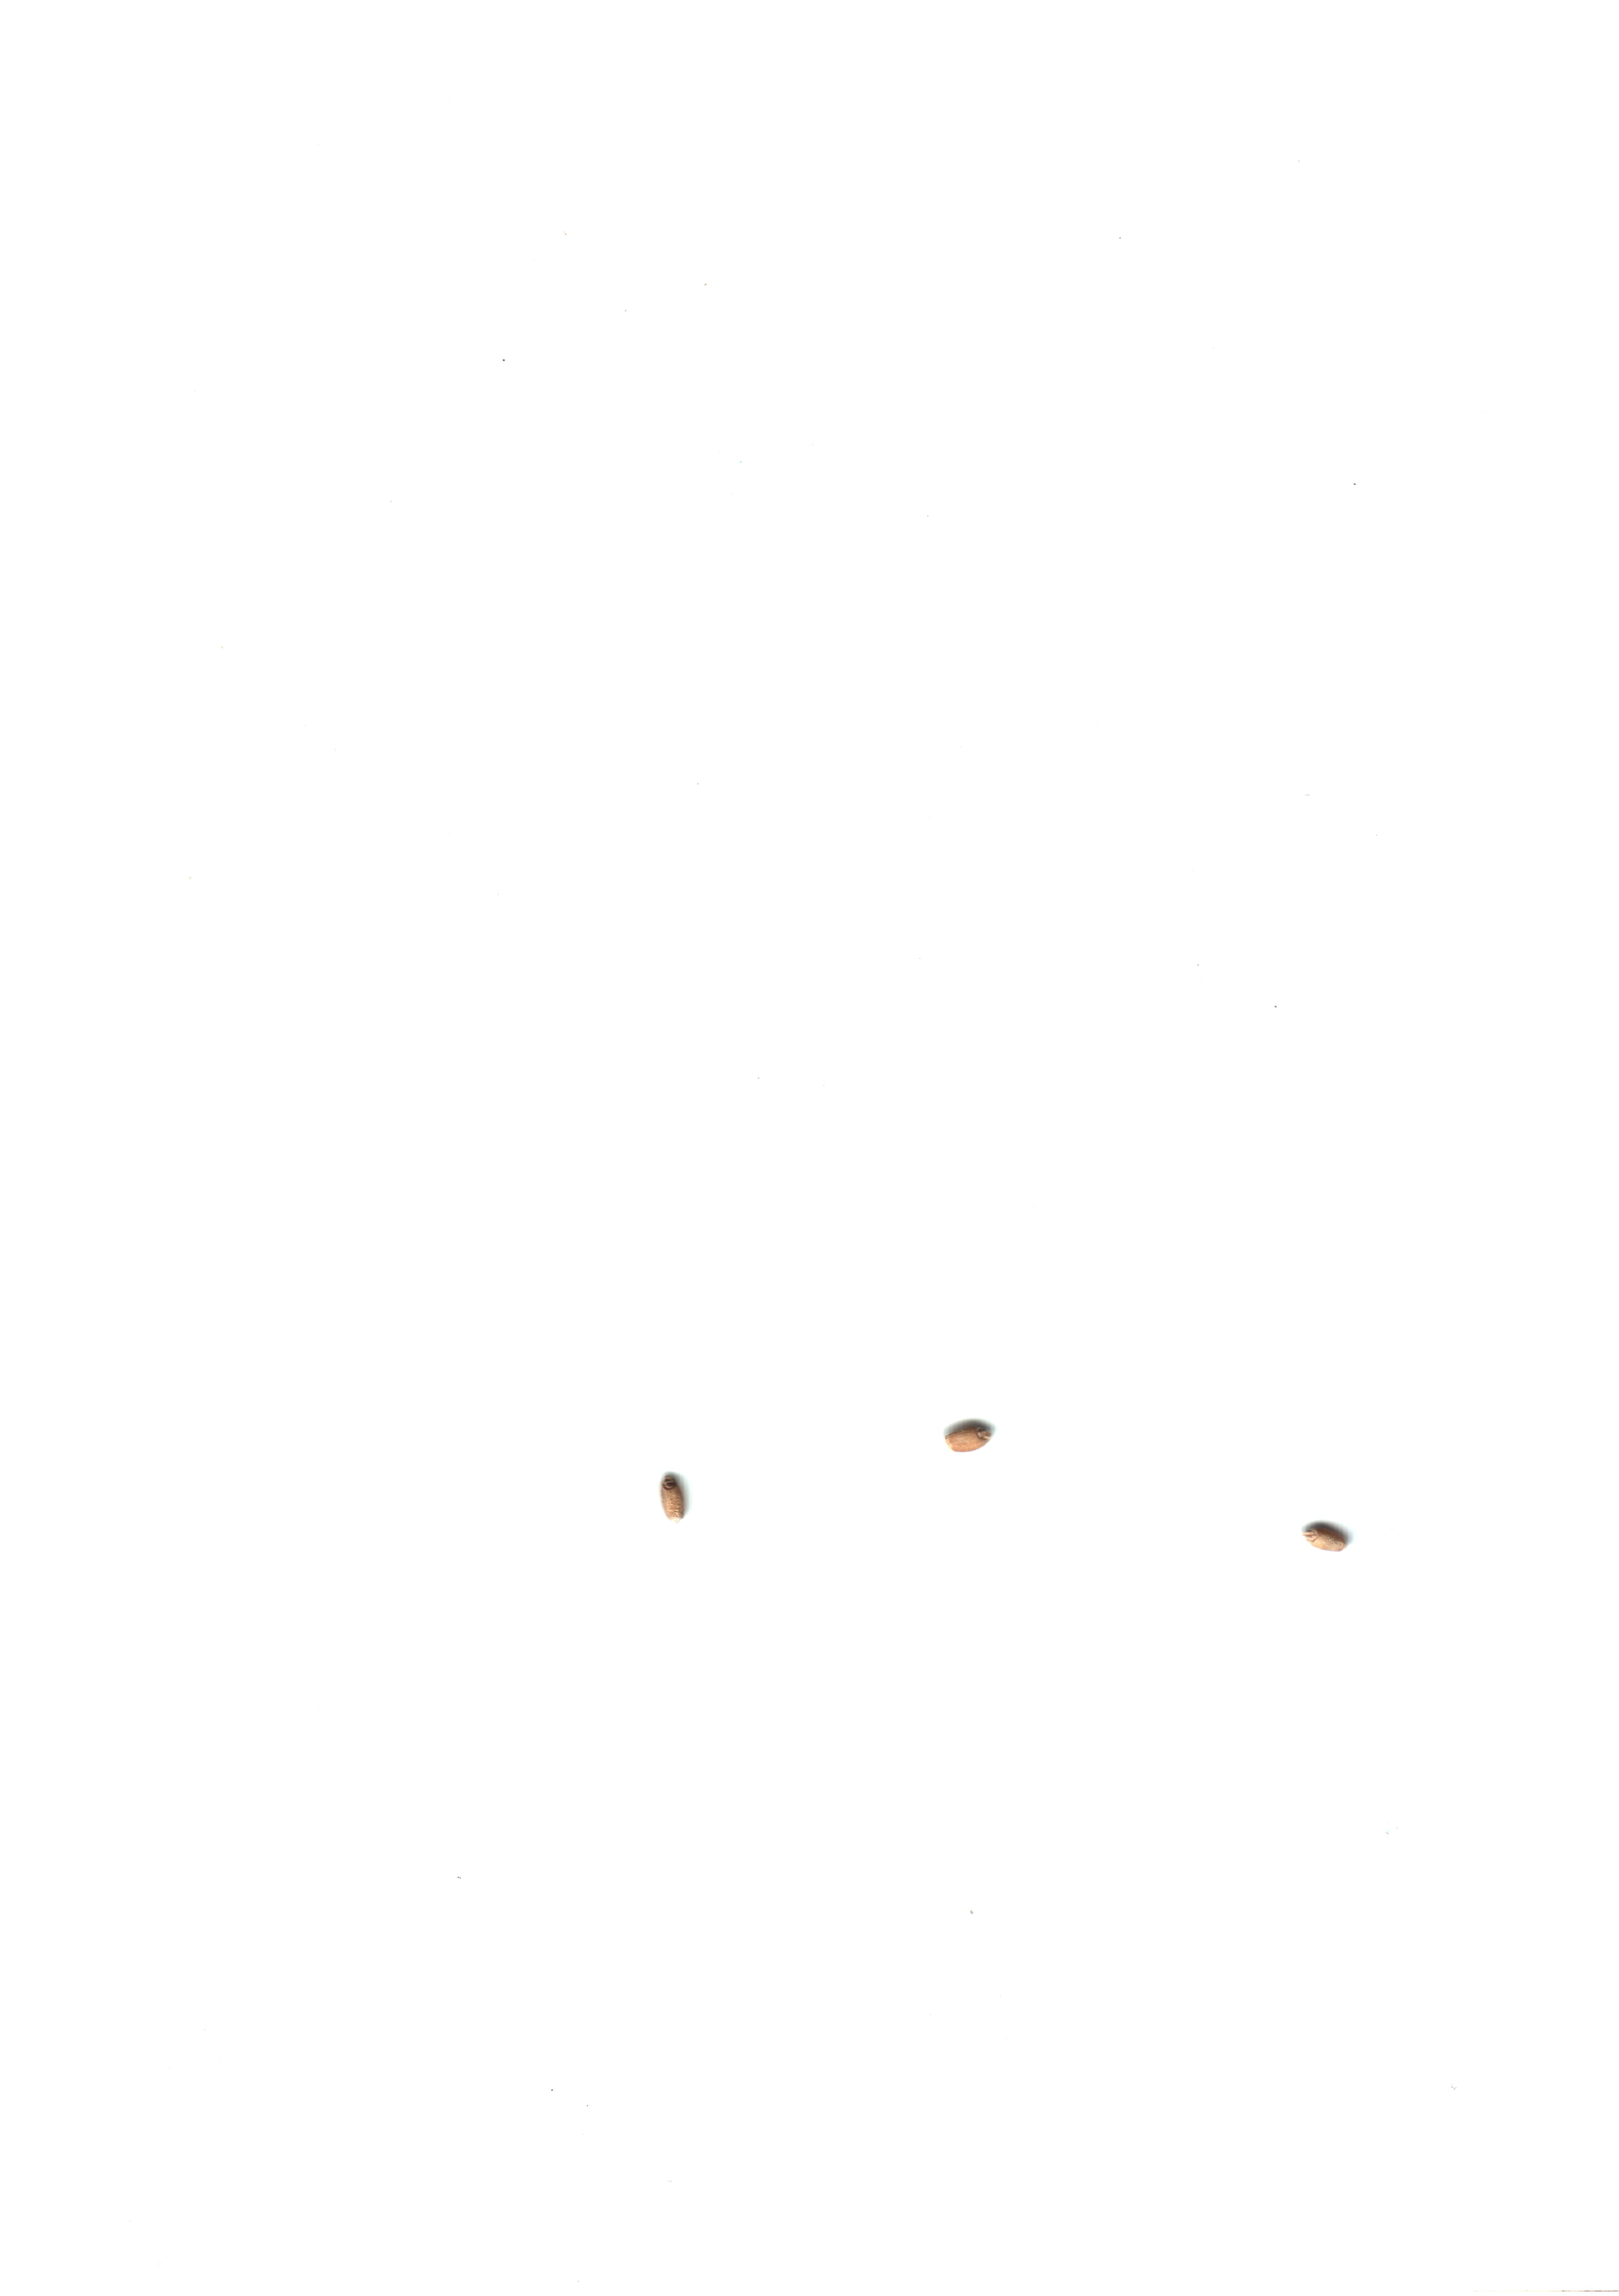grains_2_5mm: (1284, 1488, 1365, 1577), (636, 1446, 717, 1535), (934, 1395, 1015, 1483)
